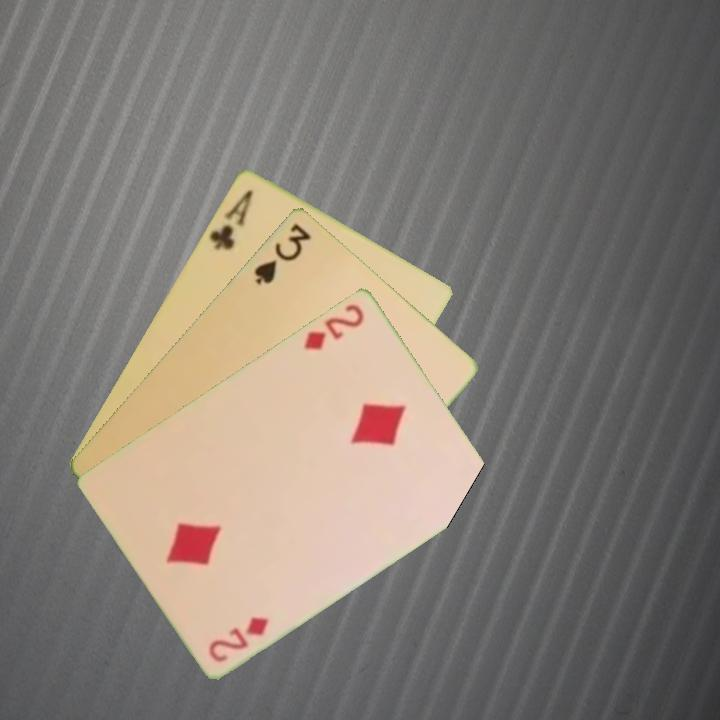2d: (300, 299, 367, 353), (205, 612, 272, 665)
3s: (250, 219, 315, 287)
Ac: (205, 185, 256, 253)
